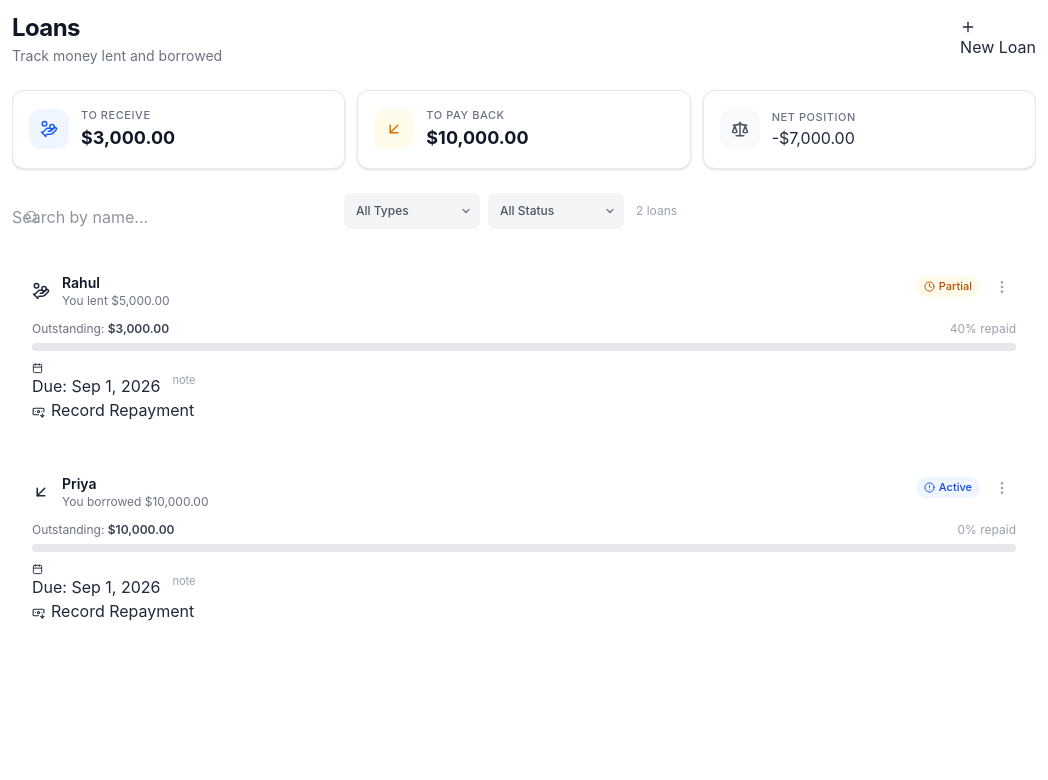
Test case: Loans feature – end-to-end (real hooks + real cache) › deletes a loan without crashing on the summary cache (delete-bug regression)
Expected: the text "Rahul" is shown, [62,274,100,290]
# Open the first loan's actions menu and delete it
Click the button named "loan actions" next to "Partial": (1002, 286) [988,272,1016,300]
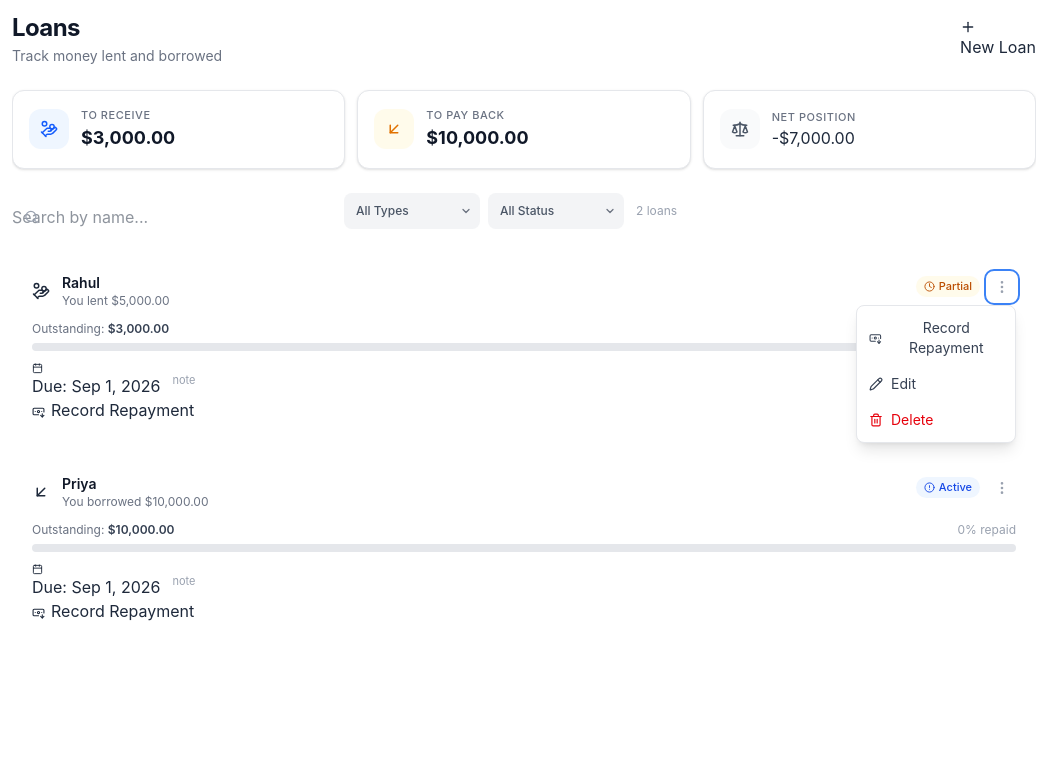
Click the button "Delete": (936, 420) [857,402,1015,438]
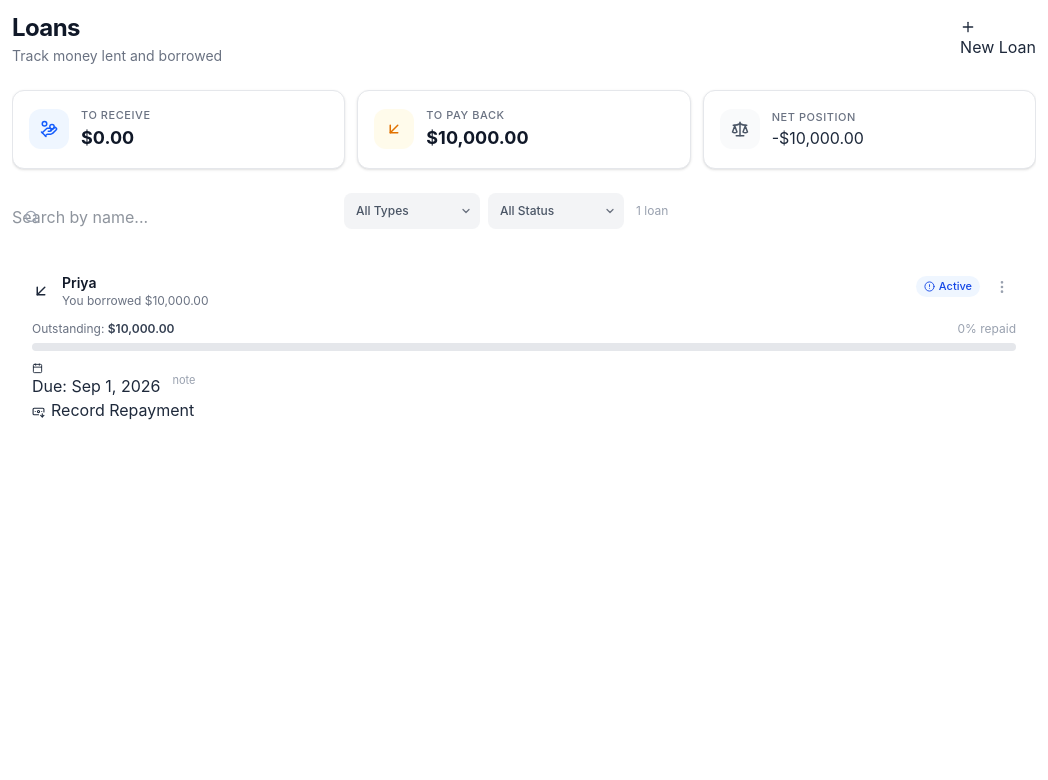
Expected: the text "Priya" is shown, [62,274,96,290]
Expected: the text "Rahul" is gone
